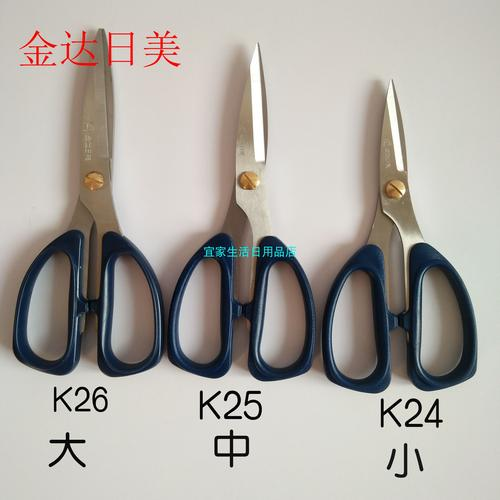scissor: (10, 25, 166, 379), (165, 39, 318, 382), (319, 75, 479, 395)
